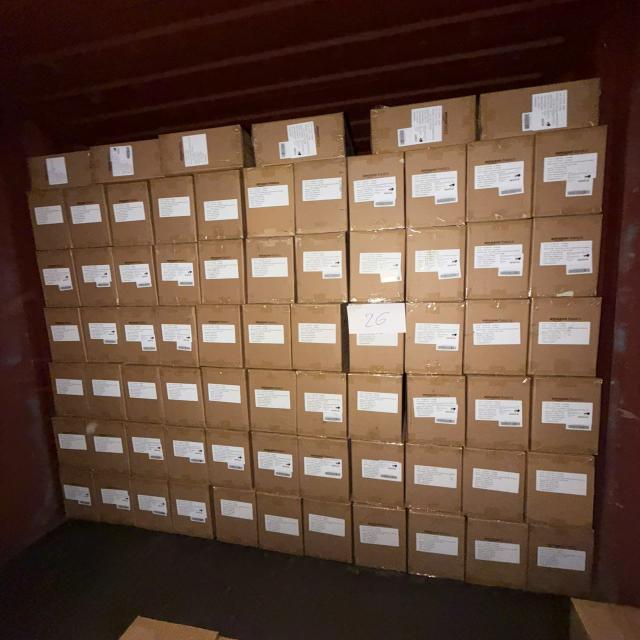Carton: (474, 74, 604, 143), (534, 125, 610, 216), (533, 213, 605, 296), (468, 136, 536, 222), (532, 299, 604, 379), (533, 378, 604, 458), (527, 454, 598, 532), (371, 100, 477, 152), (157, 121, 249, 178), (528, 523, 596, 600), (466, 221, 531, 301), (403, 148, 465, 231), (466, 300, 531, 379), (467, 375, 532, 453), (464, 448, 529, 524), (467, 517, 530, 594), (403, 227, 464, 305), (252, 114, 346, 164), (347, 153, 405, 232), (404, 301, 464, 376), (406, 509, 466, 584), (404, 376, 464, 450), (346, 302, 405, 375), (348, 228, 405, 303), (406, 444, 464, 516), (346, 374, 403, 446), (294, 160, 347, 236), (90, 136, 170, 186), (352, 506, 408, 577), (298, 230, 350, 304), (350, 441, 404, 511), (246, 169, 297, 242), (291, 302, 343, 373), (301, 436, 353, 504), (300, 501, 352, 569), (242, 304, 293, 373), (194, 170, 242, 243), (252, 429, 303, 497), (297, 372, 347, 441), (248, 238, 298, 307), (114, 301, 164, 369), (249, 368, 298, 435), (257, 490, 306, 557), (195, 305, 243, 371), (151, 174, 196, 244), (24, 148, 96, 191), (200, 240, 246, 307), (80, 360, 130, 421), (201, 367, 248, 431), (84, 417, 133, 477), (205, 430, 252, 492), (211, 487, 257, 550), (109, 182, 154, 245), (155, 244, 199, 308), (163, 368, 208, 430), (67, 186, 110, 249), (114, 248, 158, 309), (78, 305, 122, 365), (91, 471, 138, 527), (50, 416, 96, 473), (47, 362, 92, 420), (170, 484, 215, 542), (32, 189, 74, 250), (167, 424, 209, 484), (160, 308, 200, 371), (57, 468, 102, 524), (122, 366, 163, 426), (74, 250, 114, 310), (39, 252, 80, 310), (126, 422, 167, 480), (131, 477, 171, 536), (46, 310, 85, 366)
